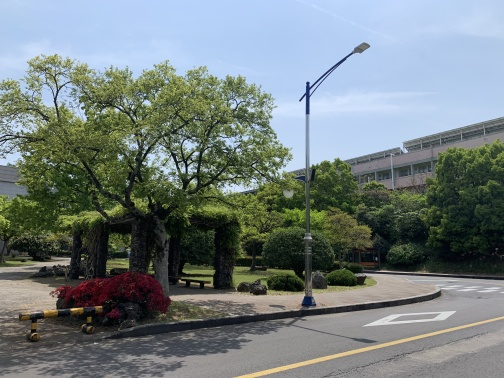College Of Education: (289, 117, 502, 212)
